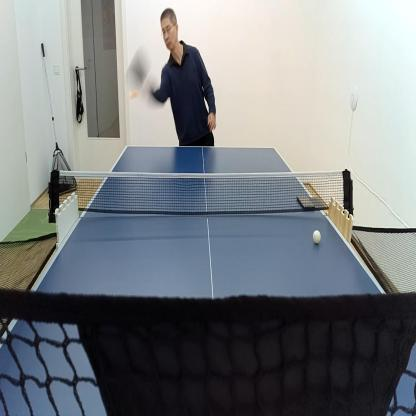Ball: (312, 227, 322, 247), (132, 88, 140, 102)
